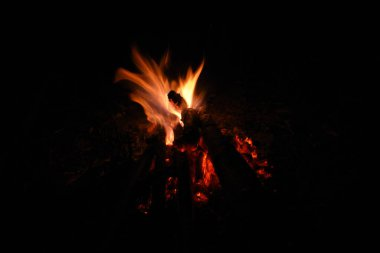fire: (119, 46, 215, 139)
